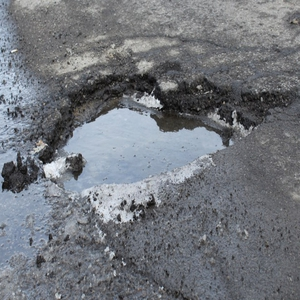pothole: (39, 65, 280, 205)
